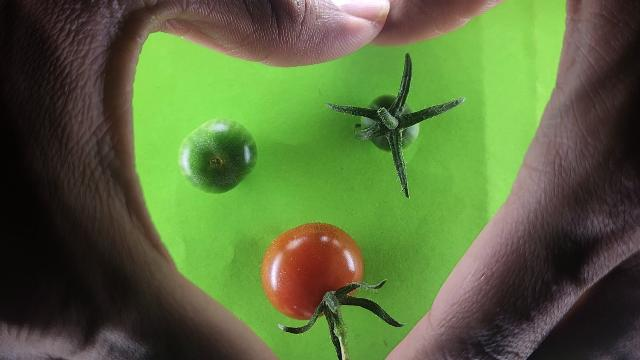Fruit Maturation: (178, 116, 258, 194), (360, 95, 419, 153)
Fully Grown: (259, 221, 366, 322)
